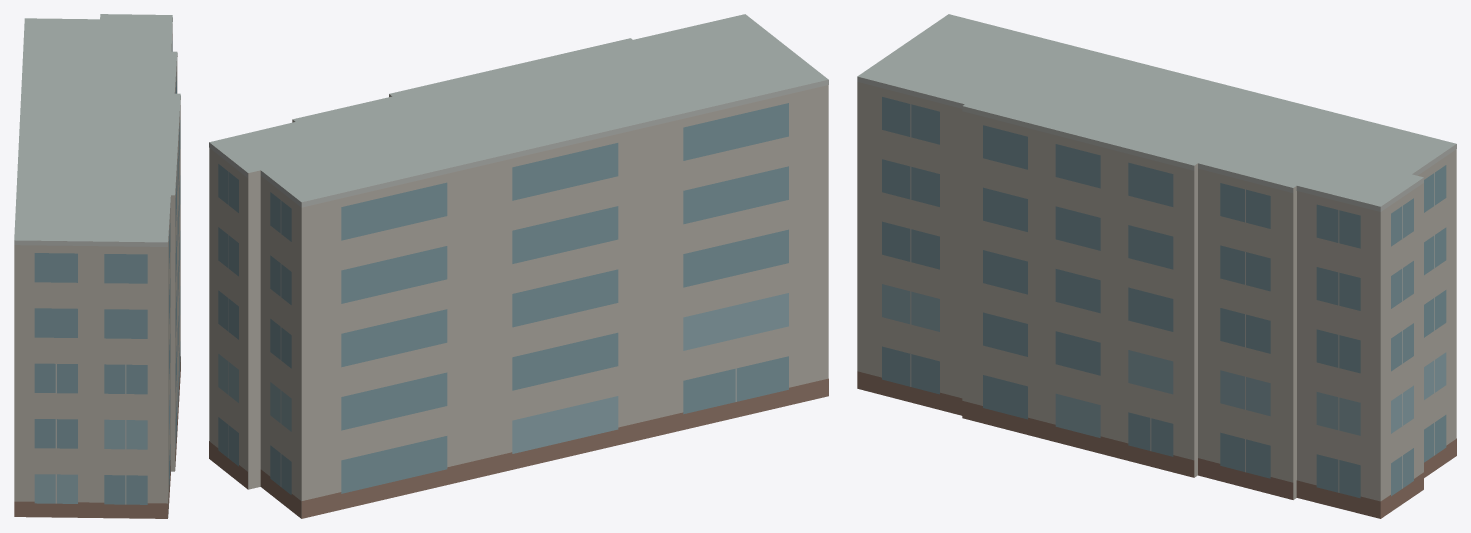
Rendered from survey-upis-32875432.glb.
3 views of the same model, side by side, from view 1: azimuth 30°, elevation 25°; view 2: azimuth 150°, elevation 25°; view 3: azimuth 270°, elevation 25° (orthographic). The views are drawn at different scales.
Visible parts, largest first — view 1: survey-upis-32875432.tmp; view 2: survey-upis-32875432.tmp; view 3: survey-upis-32875432.tmp.
Part boxes in pixels (bbox=[...]): survey-upis-32875432.tmp: bbox=[14, 14, 180, 518]; survey-upis-32875432.tmp: bbox=[209, 14, 828, 518]; survey-upis-32875432.tmp: bbox=[857, 14, 1456, 518].
Bounding box in the file's own units: 19.35 × 14.6 × 25.42.
